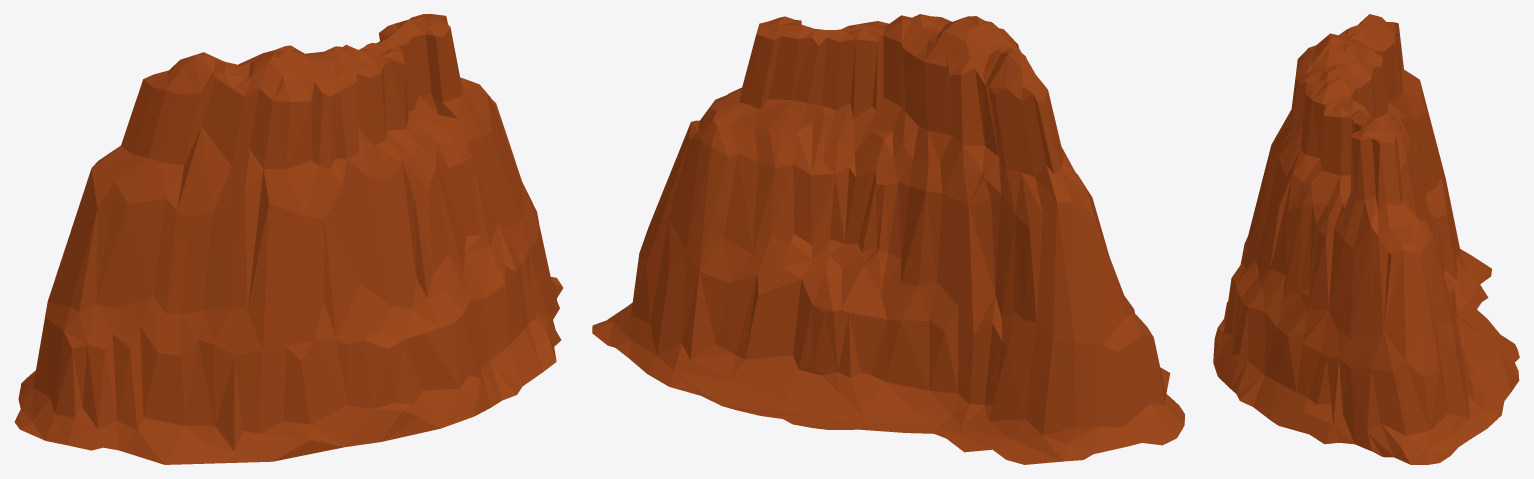
Rendered from mounting_3.gltf.
3 renders of one model, left to right at view 1: azimuth 30°, elevation 25°; view 2: azimuth 150°, elevation 25°; view 3: azimuth 270°, elevation 25°, orthographic. The views are drawn at different scales.
Parts seen in each view (by area): view 1: Mounting_3; view 2: Mounting_3; view 3: Mounting_3.
Boxes of the visible parts, x1,y1,x2,y2 form: Mounting_3: [14, 14, 563, 464]; Mounting_3: [592, 14, 1184, 464]; Mounting_3: [1213, 14, 1519, 464].
Bounding box in the file's own units: 2470 × 1480 × 1390.
